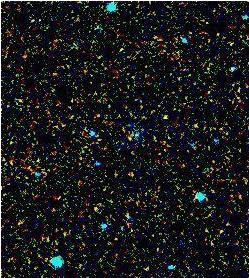star: (151, 103, 181, 133)
